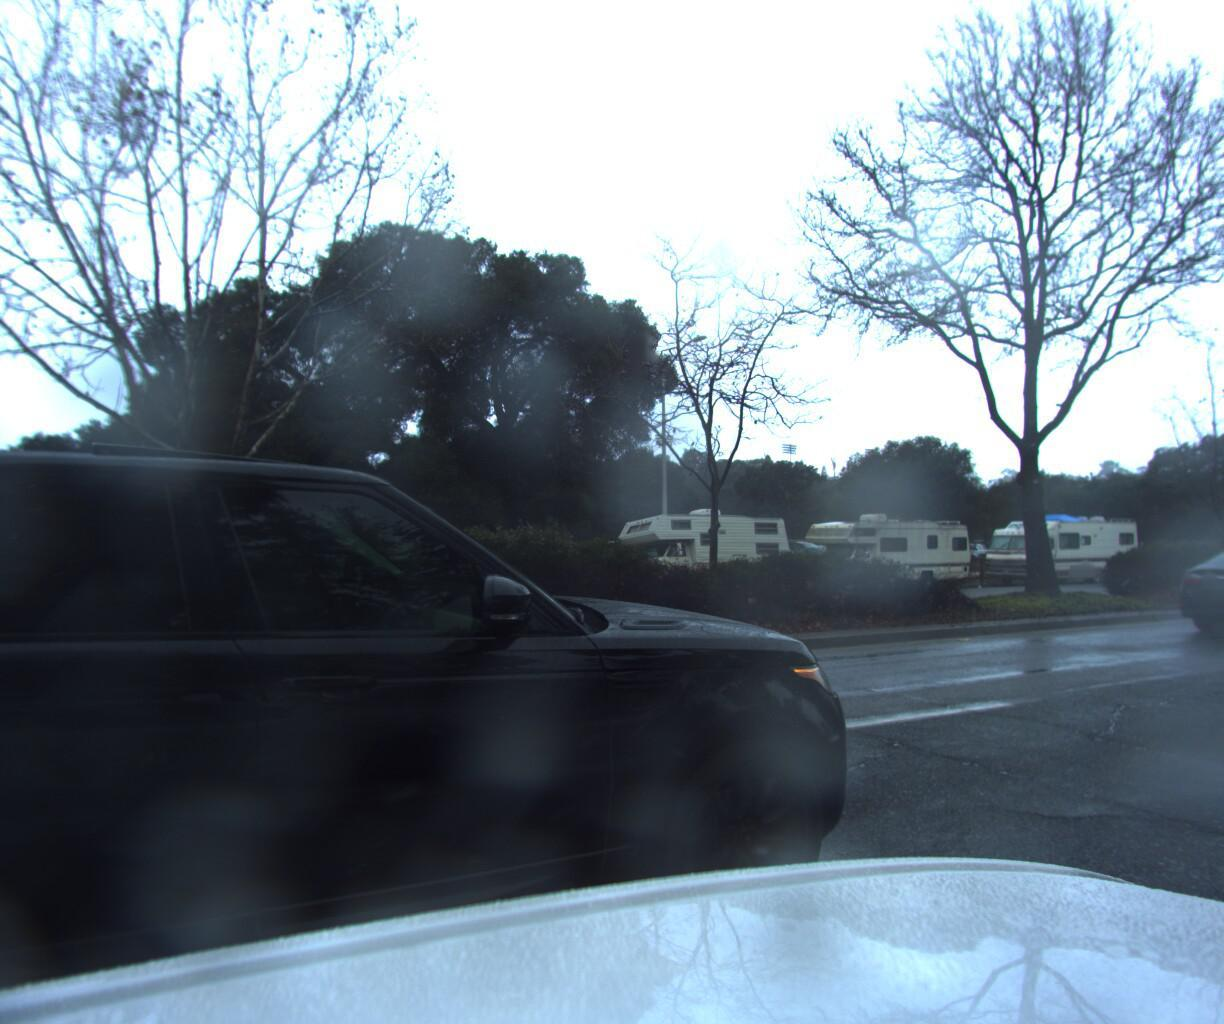car: (0, 305, 963, 1024), (1150, 533, 1224, 645)
other_vehicle: (612, 504, 795, 600), (792, 509, 974, 593), (974, 509, 1142, 589)
